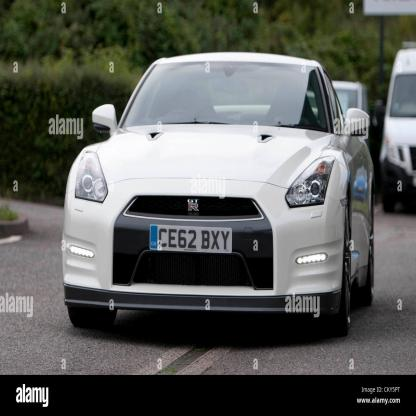car: (56, 42, 380, 340)
